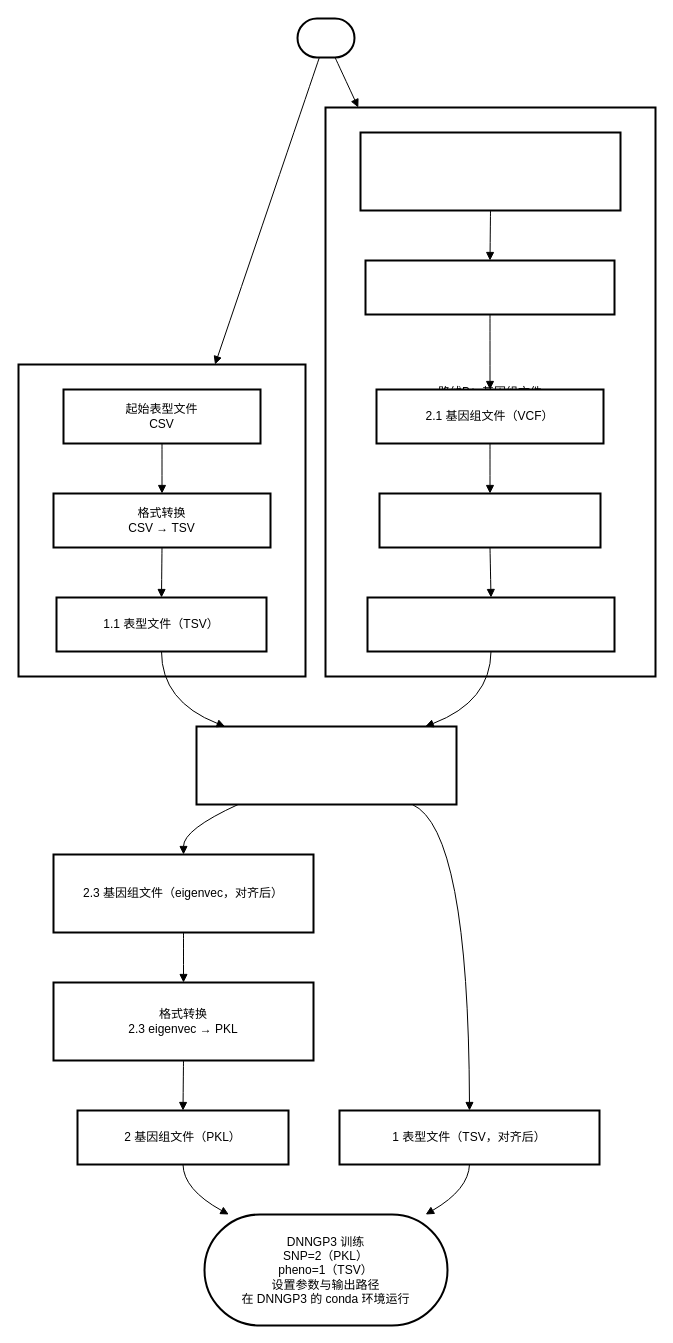
Some shapes in this 673 by 1343 pixel diagram are drawn without their labels. The centre of each missing label's shape, as x and y in pixels:
2.2 PCA 结果（eigenvec）: the point at 490,624
plink2 数据处理与 PCA: the point at 489,520
对齐个体ID 取交集并统一编号顺序: the point at 326,765
开始: the point at 325,37
格式转换 hmp.txt → VCF: the point at 489,287
起始基因组文件 HapMap .hmp.txt: the point at 490,171
